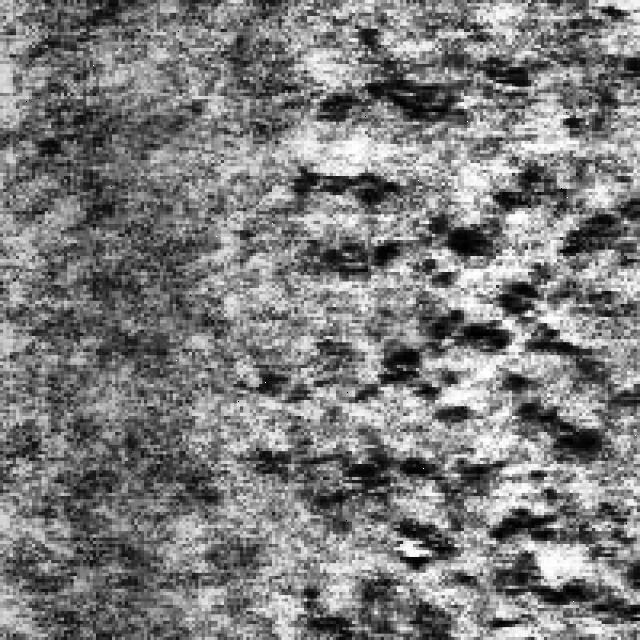Crazing: (294, 134, 634, 637), (284, 45, 564, 285)
